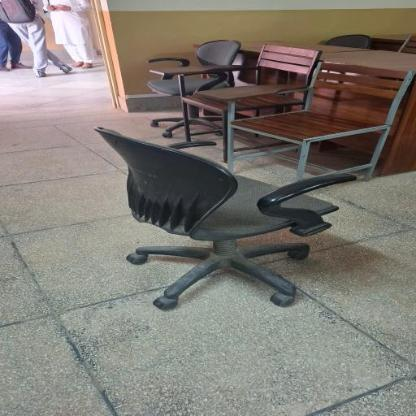chair: (90, 120, 354, 318), (233, 60, 416, 189)
